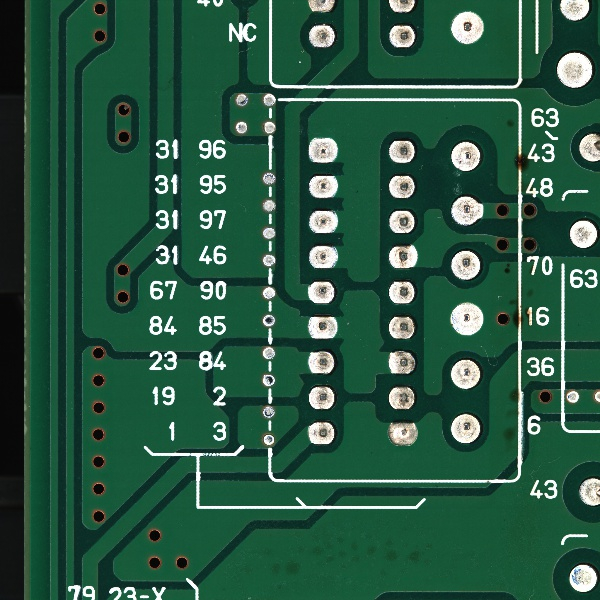Circle: (445, 5, 489, 50), (554, 48, 597, 91), (448, 188, 487, 231), (448, 135, 487, 174), (447, 299, 487, 337), (447, 243, 484, 282), (448, 408, 487, 445), (448, 354, 486, 391), (303, 133, 343, 166), (566, 215, 600, 253), (384, 416, 422, 449), (384, 310, 420, 342), (384, 346, 421, 377), (567, 559, 599, 593), (305, 204, 339, 236), (387, 18, 420, 50), (306, 275, 337, 309), (385, 241, 420, 271), (305, 381, 340, 411), (387, 382, 419, 413), (387, 275, 420, 305), (304, 346, 337, 376), (304, 418, 338, 447), (306, 171, 341, 199), (385, 171, 420, 198), (387, 205, 418, 235), (306, 311, 338, 340), (575, 128, 600, 165), (307, 242, 340, 270), (384, 137, 419, 163), (307, 21, 338, 50), (576, 475, 600, 507)
